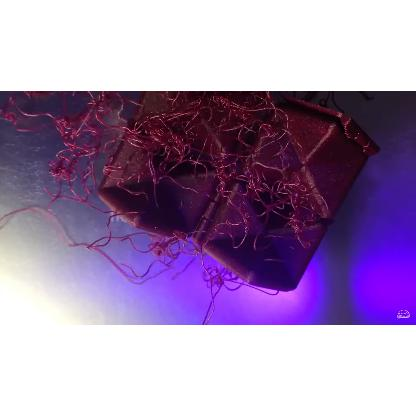fail: (52, 100, 315, 268)
